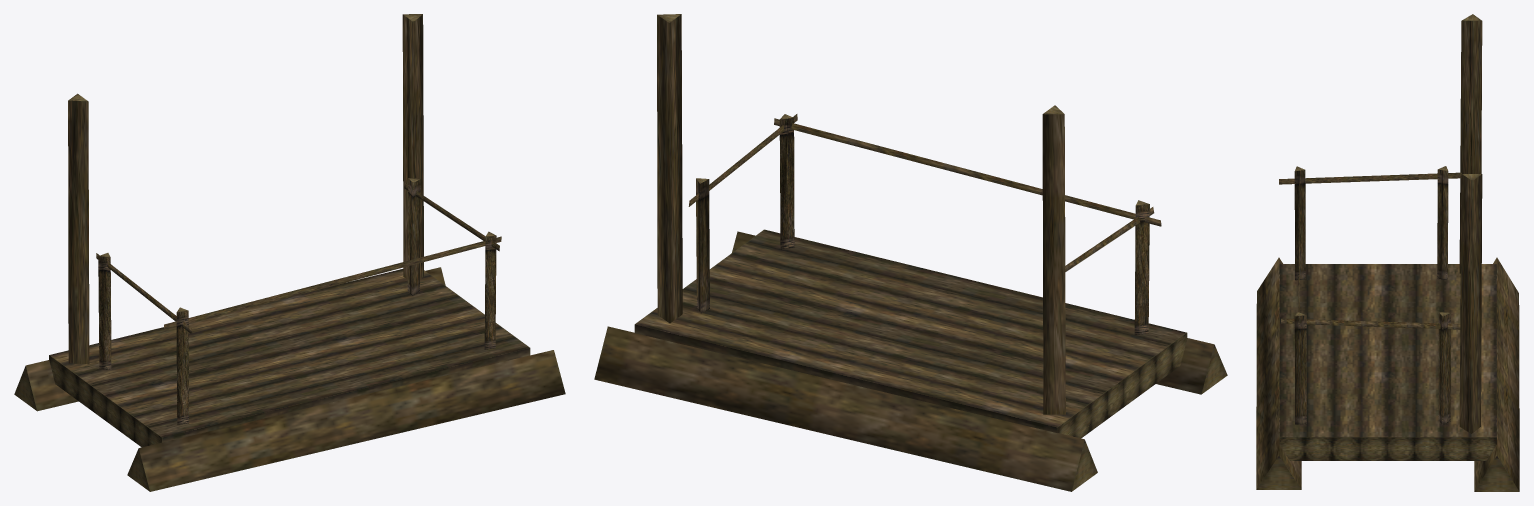
File: thm_endr_village_tree_viewpoint_s01_l2.fbx
3 views of the same model, side by side, from view 1: azimuth 30°, elevation 25°; view 2: azimuth 150°, elevation 25°; view 3: azimuth 270°, elevation 25° (orthographic). The views are drawn at different scales.
Parts seen in each view (by area): view 1: mesh_node; view 2: mesh_node; view 3: mesh_node.
Part boxes in pixels (x1,y1,x2,y2): mesh_node: [14, 14, 565, 491]; mesh_node: [594, 14, 1227, 491]; mesh_node: [1256, 14, 1519, 491].
Bounding box in the file's own units: 4.04 × 2.86 × 2.3.
